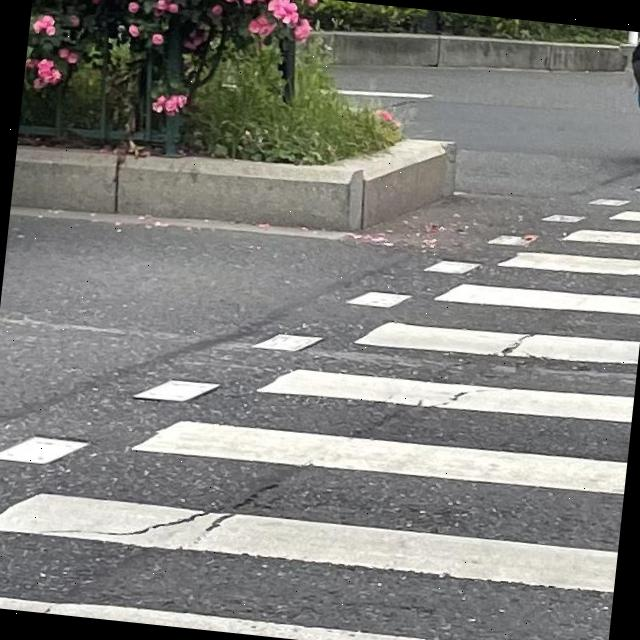curb: (10, 138, 455, 230), (321, 31, 629, 71)
